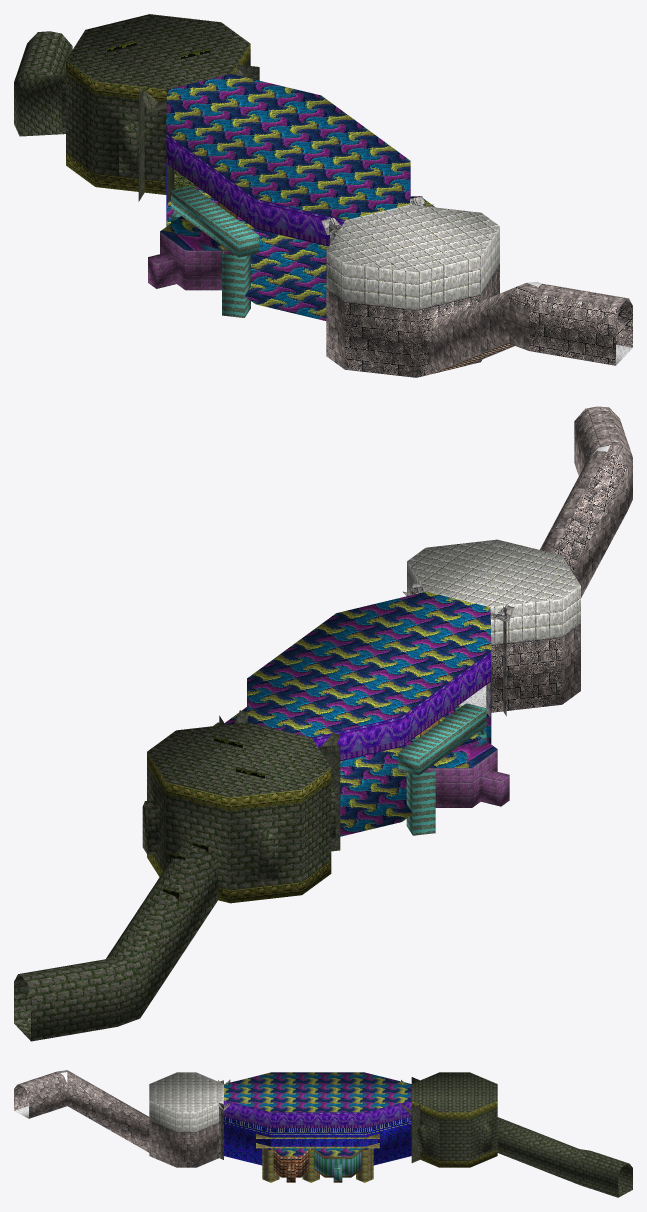
Rendered from IntermissionFloorRoom0.obj.
The picture shows the model from 3 angles, top to bottom: view 1: azimuth 30°, elevation 25°; view 2: azimuth 150°, elevation 25°; view 3: azimuth 270°, elevation 25°; orthographic projection. The views are drawn at different scales.
Visible parts, largest first — view 1: IntermissionFloor#Room0; view 2: IntermissionFloor#Room0; view 3: IntermissionFloor#Room0.
Part boxes in pixels (left/top/right/bottom): IntermissionFloor#Room0: left=14, top=14, right=632, bottom=377; IntermissionFloor#Room0: left=14, top=406, right=632, bottom=1041; IntermissionFloor#Room0: left=14, top=1070, right=632, bottom=1197.
Bounding box in the file's own units: 1110 × 800 × 4155.
Materials: 28 (27 with a texture image).
